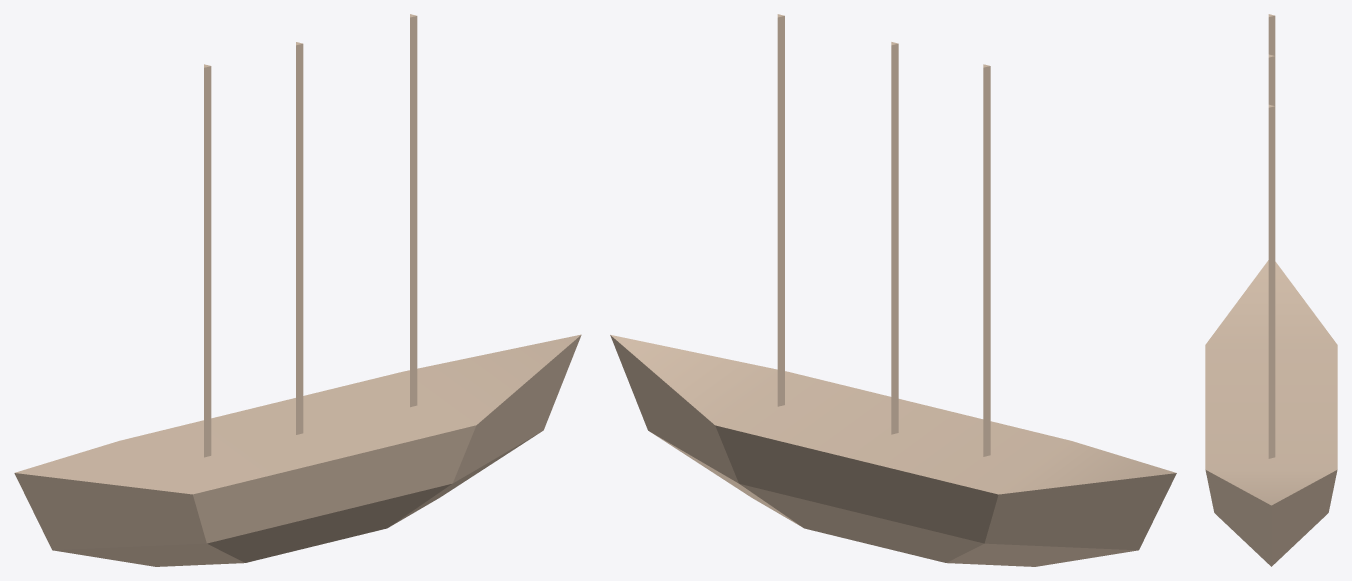
Rendered from playerBoatNoSails.fbx.
3 views of the same model, side by side, from view 1: azimuth 30°, elevation 25°; view 2: azimuth 150°, elevation 25°; view 3: azimuth 270°, elevation 25° (orthographic). The views are drawn at different scales.
Parts seen in each view (by area): view 1: pCylinder16; view 2: pCylinder16; view 3: pCylinder16.
Boxes of the visible parts, x1,y1,x2,y2 form: pCylinder16: [14, 14, 581, 566]; pCylinder16: [610, 14, 1176, 566]; pCylinder16: [1205, 14, 1337, 566].
Size of the model in its own units: 8.7 by 7.16 by 1.95.
